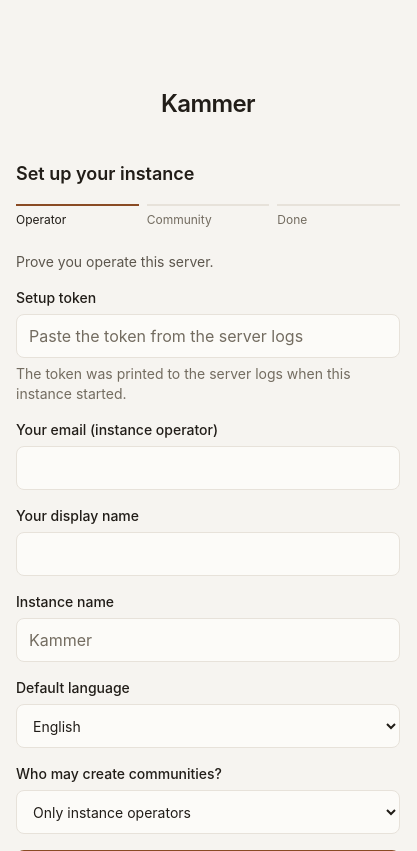
Test: setup wizard › advances from the operator step to the community step on submit
Type "setup-tok" into the field labelled "Setup token". click: point(208, 336)
box: [16, 314, 400, 358]
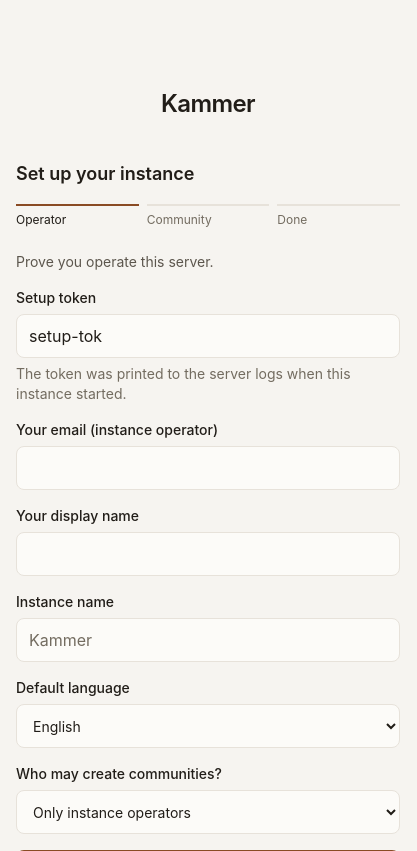
Type "op@example.com" into the field labelled "Your email (instance operator)". click: point(208, 468)
box: [16, 446, 400, 490]
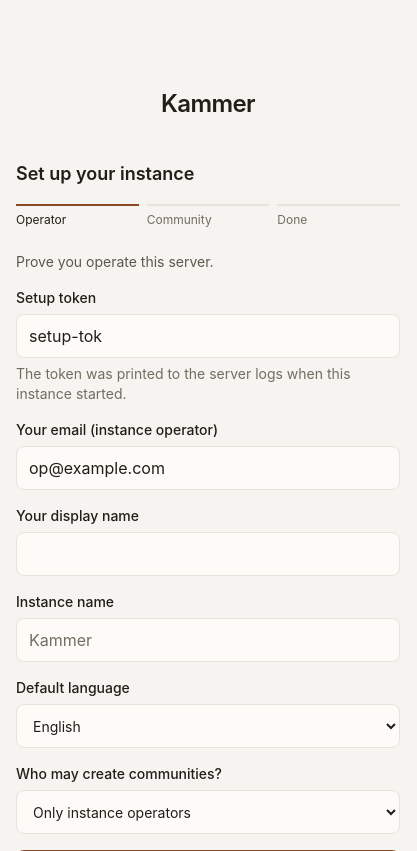
Type "Op" into the field labelled "Your display name". click: point(208, 554)
box: [16, 532, 400, 576]
(page scrolled)
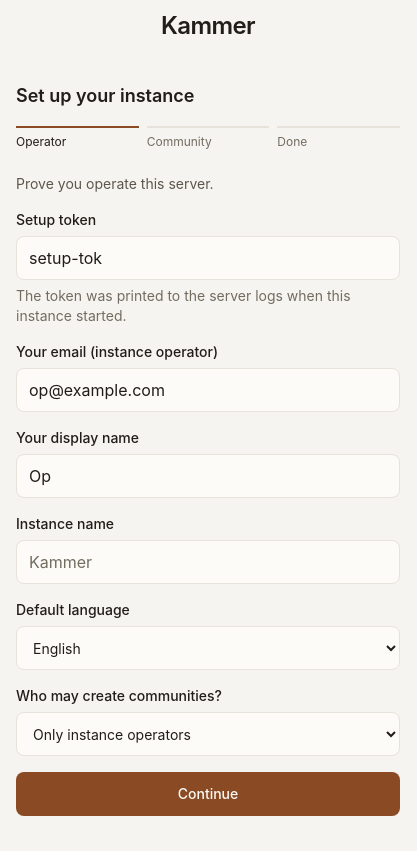
Click the button with id "setup-operator-submit". click: point(208, 794)
box: [16, 772, 400, 816]
(page scrolled)
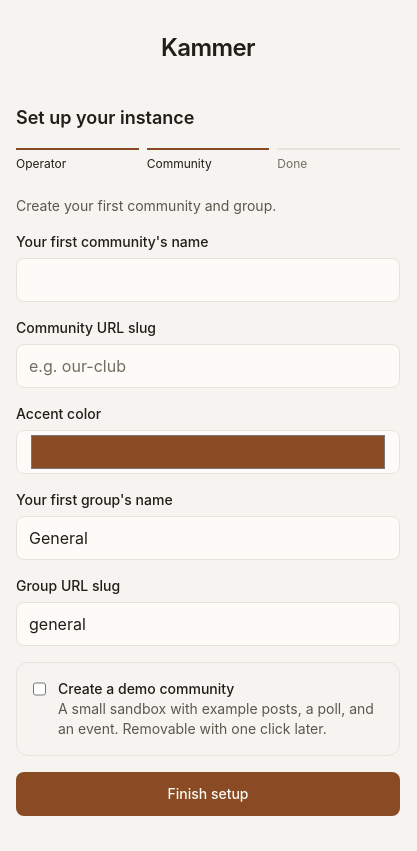
Result: the form with id "setup-community-form" is shown
